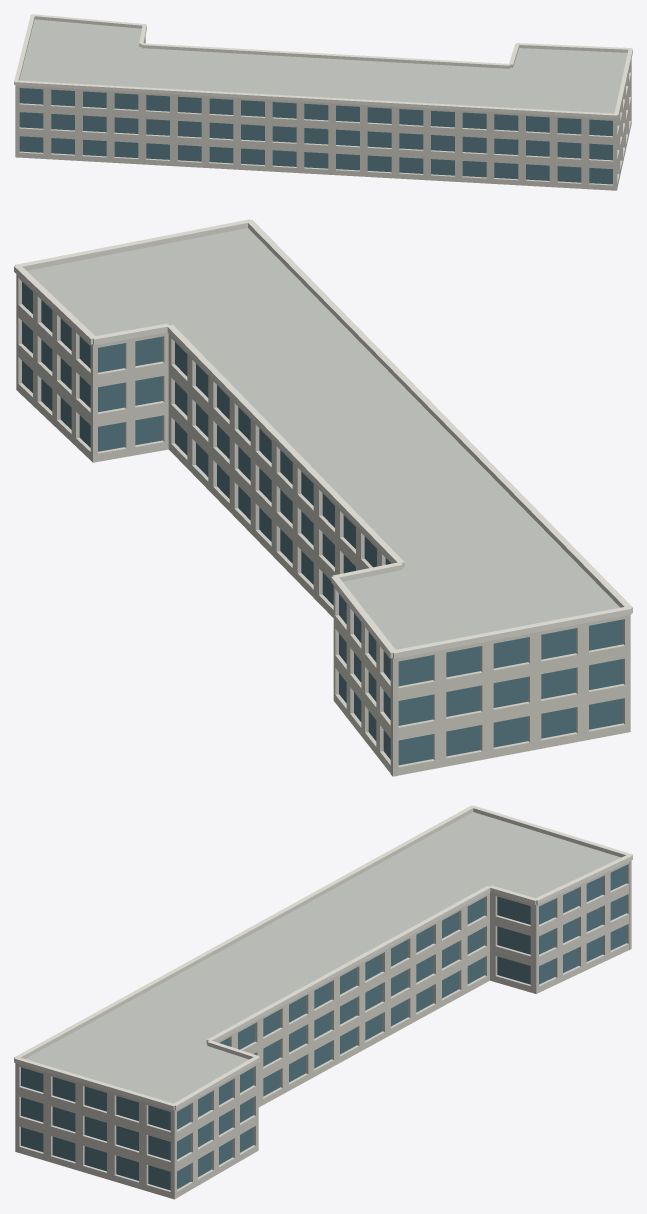
The model's file is sb_1556523914.far.glb.
The picture shows the model from 3 angles, top to bottom: view 1: azimuth 30°, elevation 25°; view 2: azimuth 150°, elevation 25°; view 3: azimuth 270°, elevation 25°; orthographic projection. The views are drawn at different scales.
Parts seen in each view (by area): view 1: roof, wall, glass, trim; view 2: roof, wall, glass, trim; view 3: roof, wall, glass, trim.
Part boxes in pixels (left/top/right/bottom): roof: left=19, top=19, right=627, bottom=113; wall: left=15, top=36, right=631, bottom=190; glass: left=19, top=88, right=612, bottom=184; trim: left=14, top=14, right=632, bottom=118; roof: left=27, top=228, right=619, bottom=649; wall: left=16, top=274, right=630, bottom=776; glass: left=22, top=281, right=623, bottom=765; trim: left=14, top=219, right=632, bottom=658; roof: left=25, top=812, right=620, bottom=1103; wall: left=15, top=860, right=631, bottom=1199; glass: left=21, top=865, right=626, bottom=1190; trim: left=14, top=805, right=632, bottom=1110.
Size of the model in its own units: 66.92 by 9.74 by 58.19.
